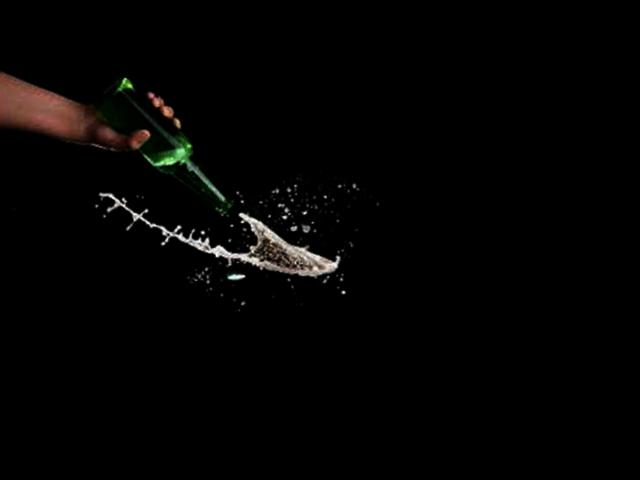beer: (91, 60, 235, 229)
